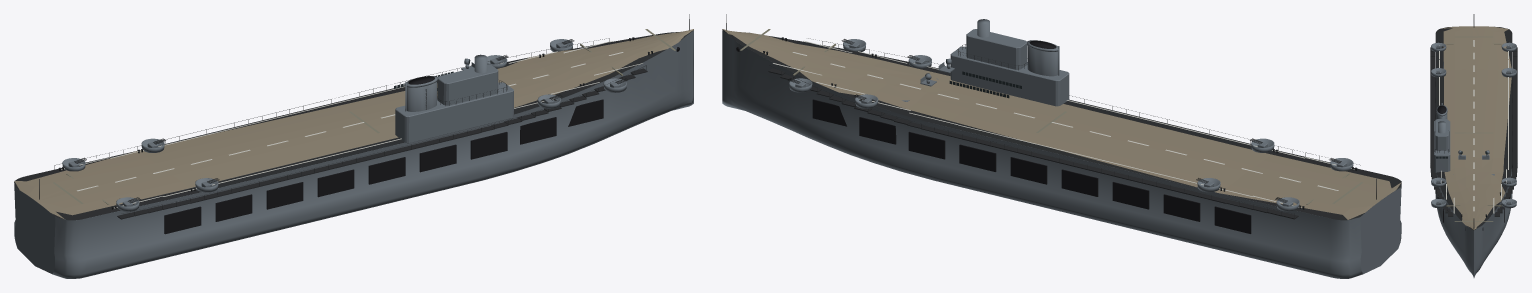
The model's file is casablanca_lod.glb.
3 views of the same model, side by side, from view 1: azimuth 30°, elevation 25°; view 2: azimuth 150°, elevation 25°; view 3: azimuth 270°, elevation 25° (orthographic). The views are drawn at different scales.
Visible parts, largest first — view 1: casablanca_lod; view 2: casablanca_lod; view 3: casablanca_lod.
Boxes of the visible parts, x1,y1,x2,y2 form: casablanca_lod: [14, 14, 693, 278]; casablanca_lod: [722, 14, 1401, 278]; casablanca_lod: [1430, 14, 1517, 277].
Size of the model in its own units: 156 by 28.01 by 27.41.
